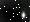person: (13, 8, 21, 21), (22, 9, 27, 21)
